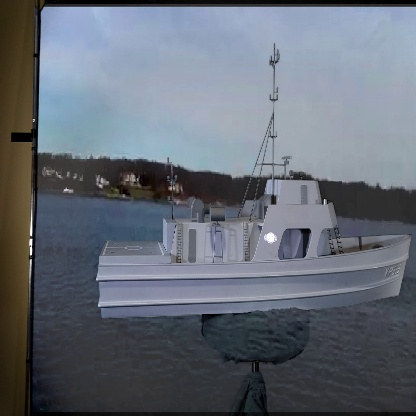YP689: (96, 45, 412, 319)
